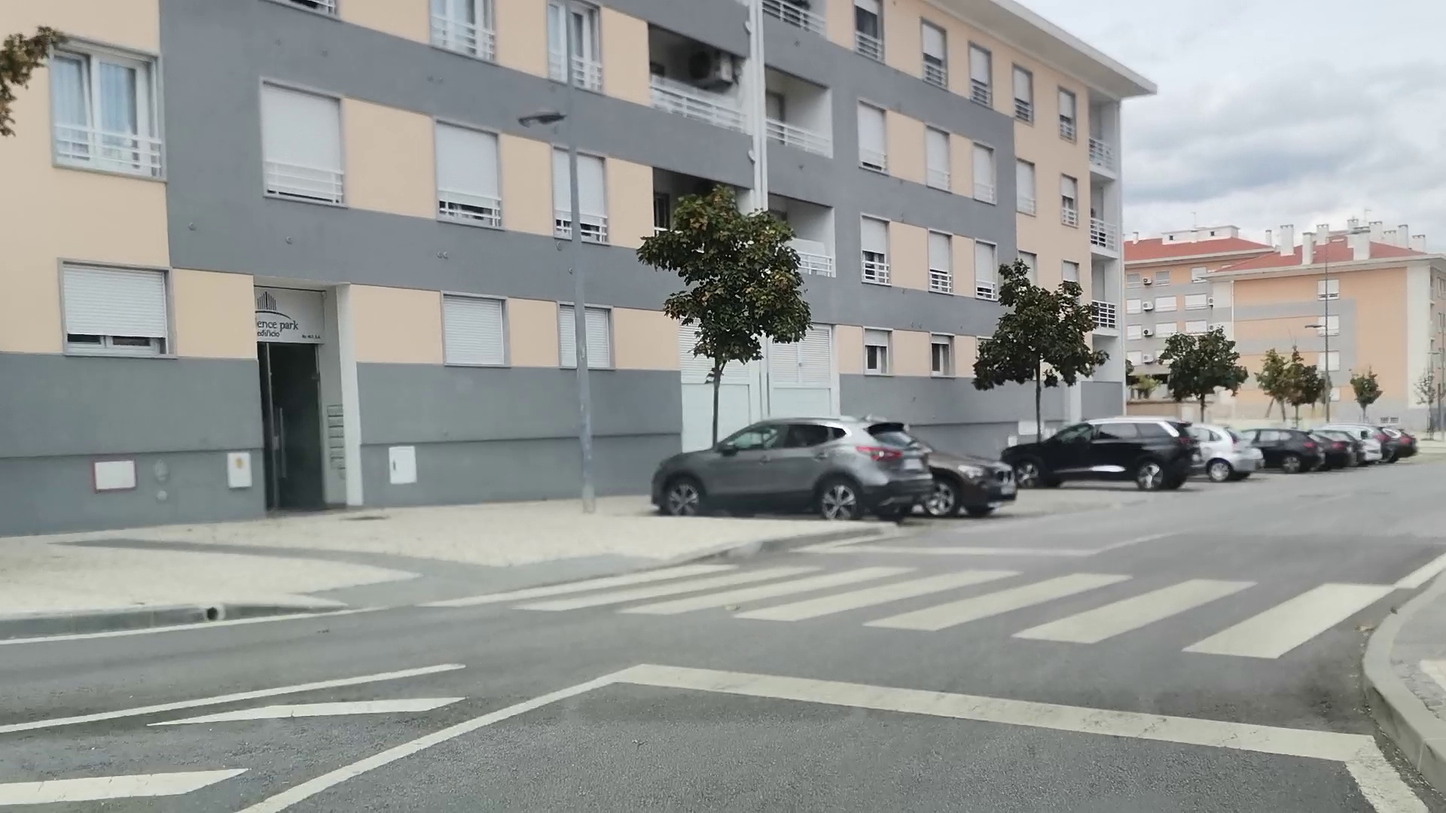Stairs: (423, 561, 1408, 659)
